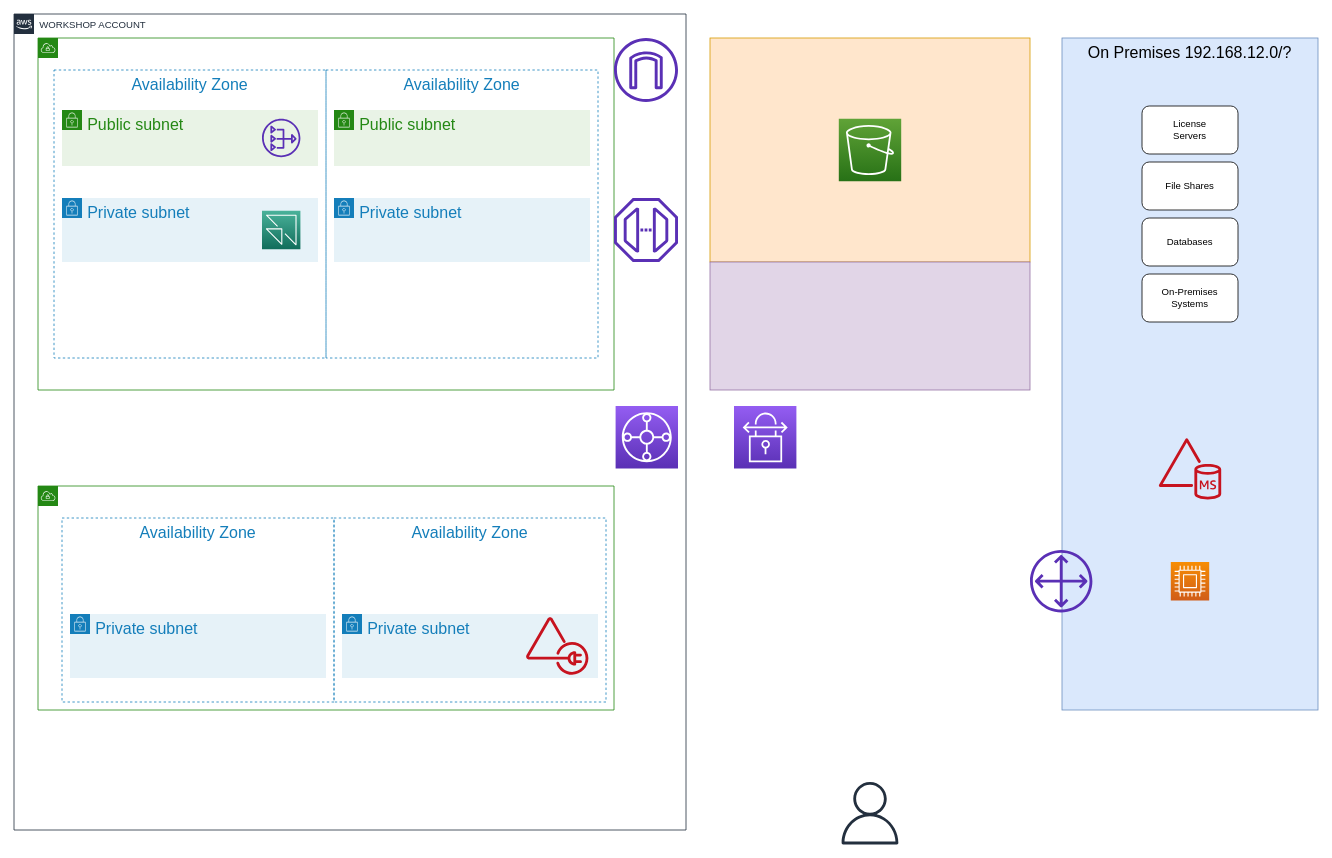
This 1332x858 diagram has some shape labels left out. The box of each missing label's shape, as (x1, y1, x2, y2) in pixels:
Active Directory: (1158, 438, 1221, 499)
AWS Public Services: (709, 37, 1030, 262)
Internet: (709, 261, 1030, 390)
Internet Gateway: (614, 38, 678, 102)
S3 Endpoint: (614, 198, 678, 262)
Shared Services VPC 10.26.0.0/16: (37, 485, 614, 710)
Software Router: (1170, 561, 1209, 600)
Workshop VPC 10.25.0.0/16: (37, 37, 614, 390)
